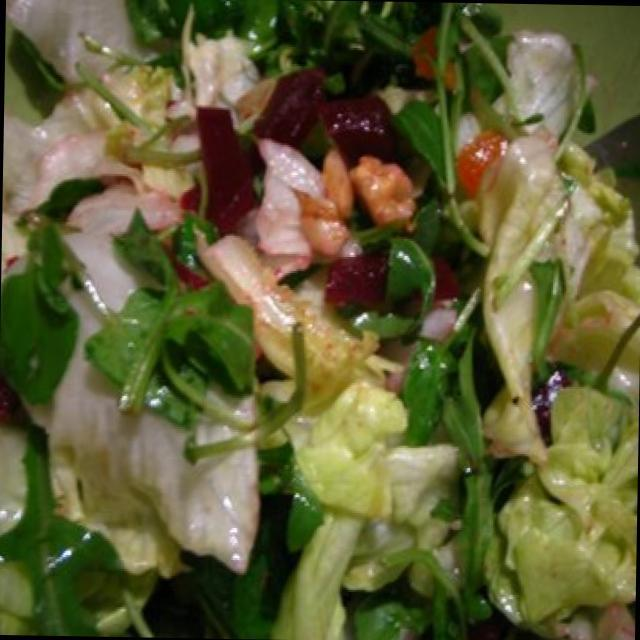Green Salad: (0, 0, 640, 634)
